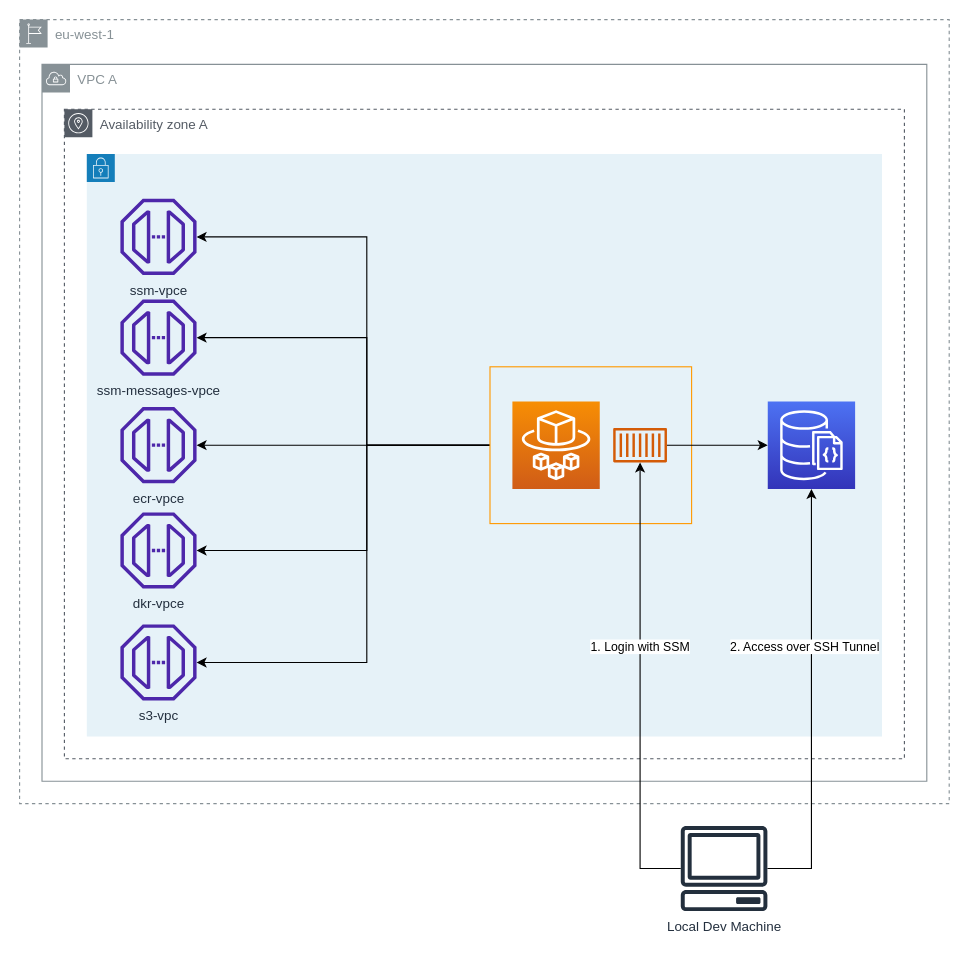
Some shapes in this 969 by 954 pixel diagram are drawn without their labels. Each missing label, with the box of its shape:
DocumentDB: (767, 400, 855, 489)
Fargate: (511, 400, 600, 489)
Private subnet: (86, 153, 882, 736)
